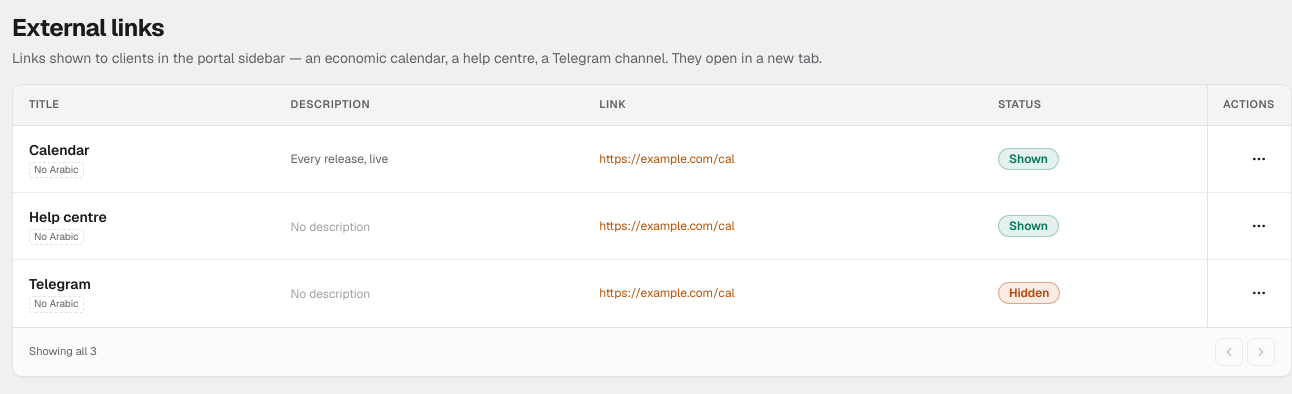
Scenario: the permission keys › lets an editor hide a link but not delete one
expect the text "Calendar" is shown: met, box [29,141,90,159]
Click the button named "actions for" at (1259, 159), box [1243,143,1275,175]
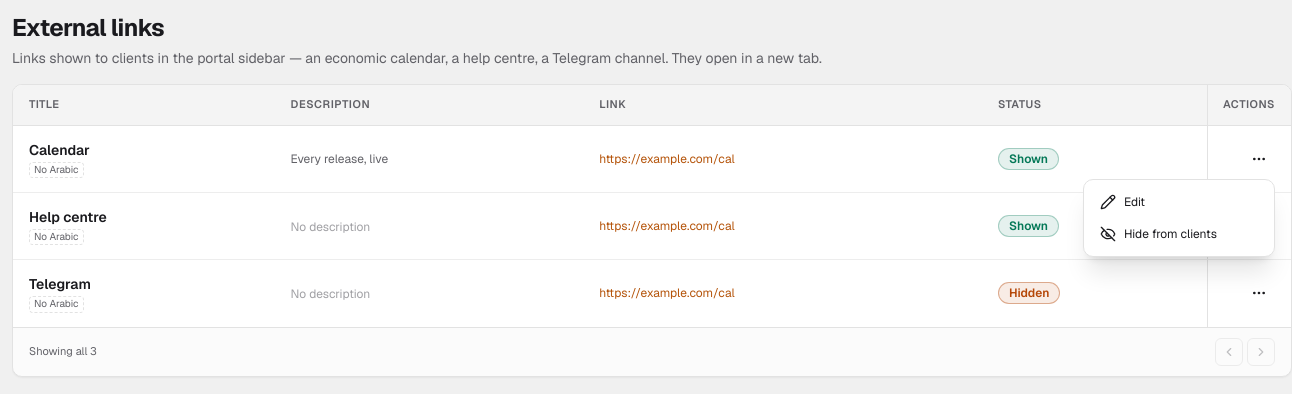
expect the menu item "Hide from clients" is shown: met, box [1100,226,1217,242]
